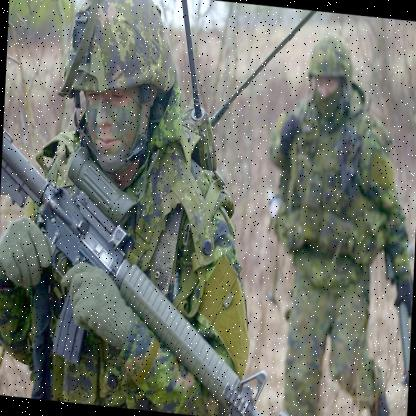rifle: (0, 123, 302, 415)
